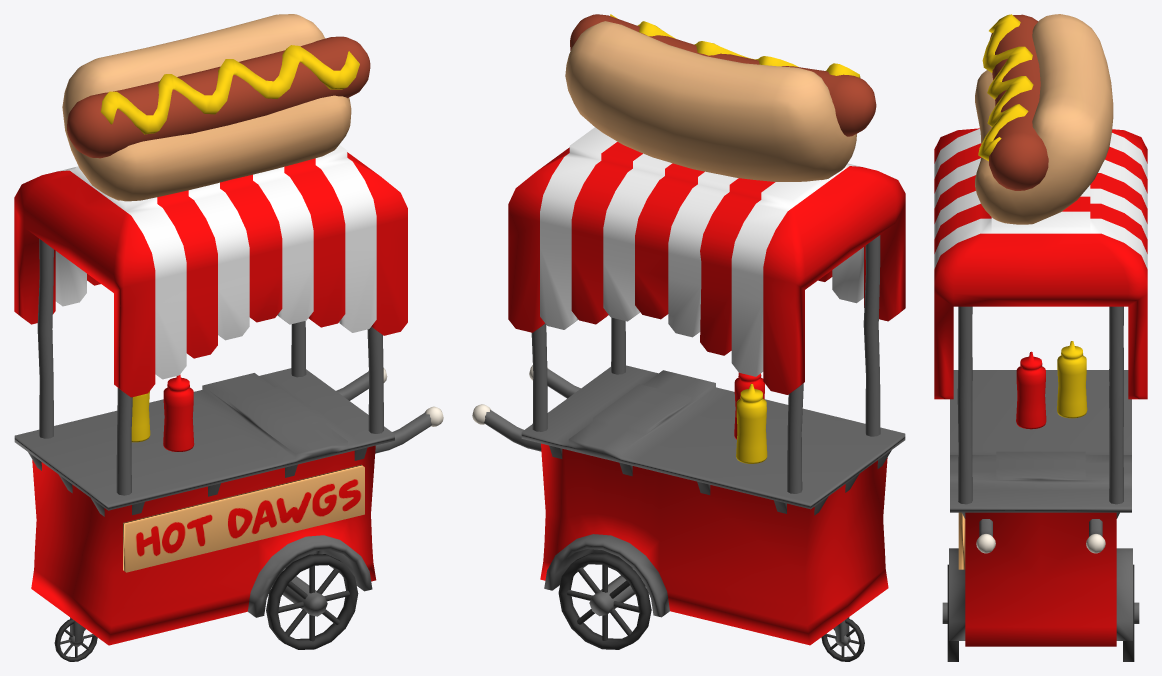
The model's file is Hot_Dog_Stand.fbx.
The picture shows the model from 3 angles, left to right: view 1: azimuth 30°, elevation 25°; view 2: azimuth 150°, elevation 25°; view 3: azimuth 270°, elevation 25°; orthographic projection. The views are drawn at different scales.
Visible parts, largest first — view 1: hot_dog_stand; view 2: hot_dog_stand; view 3: hot_dog_stand.
Part boxes in pixels (<box>): hot_dog_stand: <box>14,14,443,661</box>; hot_dog_stand: <box>472,14,905,661</box>; hot_dog_stand: <box>934,14,1147,661</box>.
Bounding box in the file's own units: 1.98 × 3.07 × 1.05.
